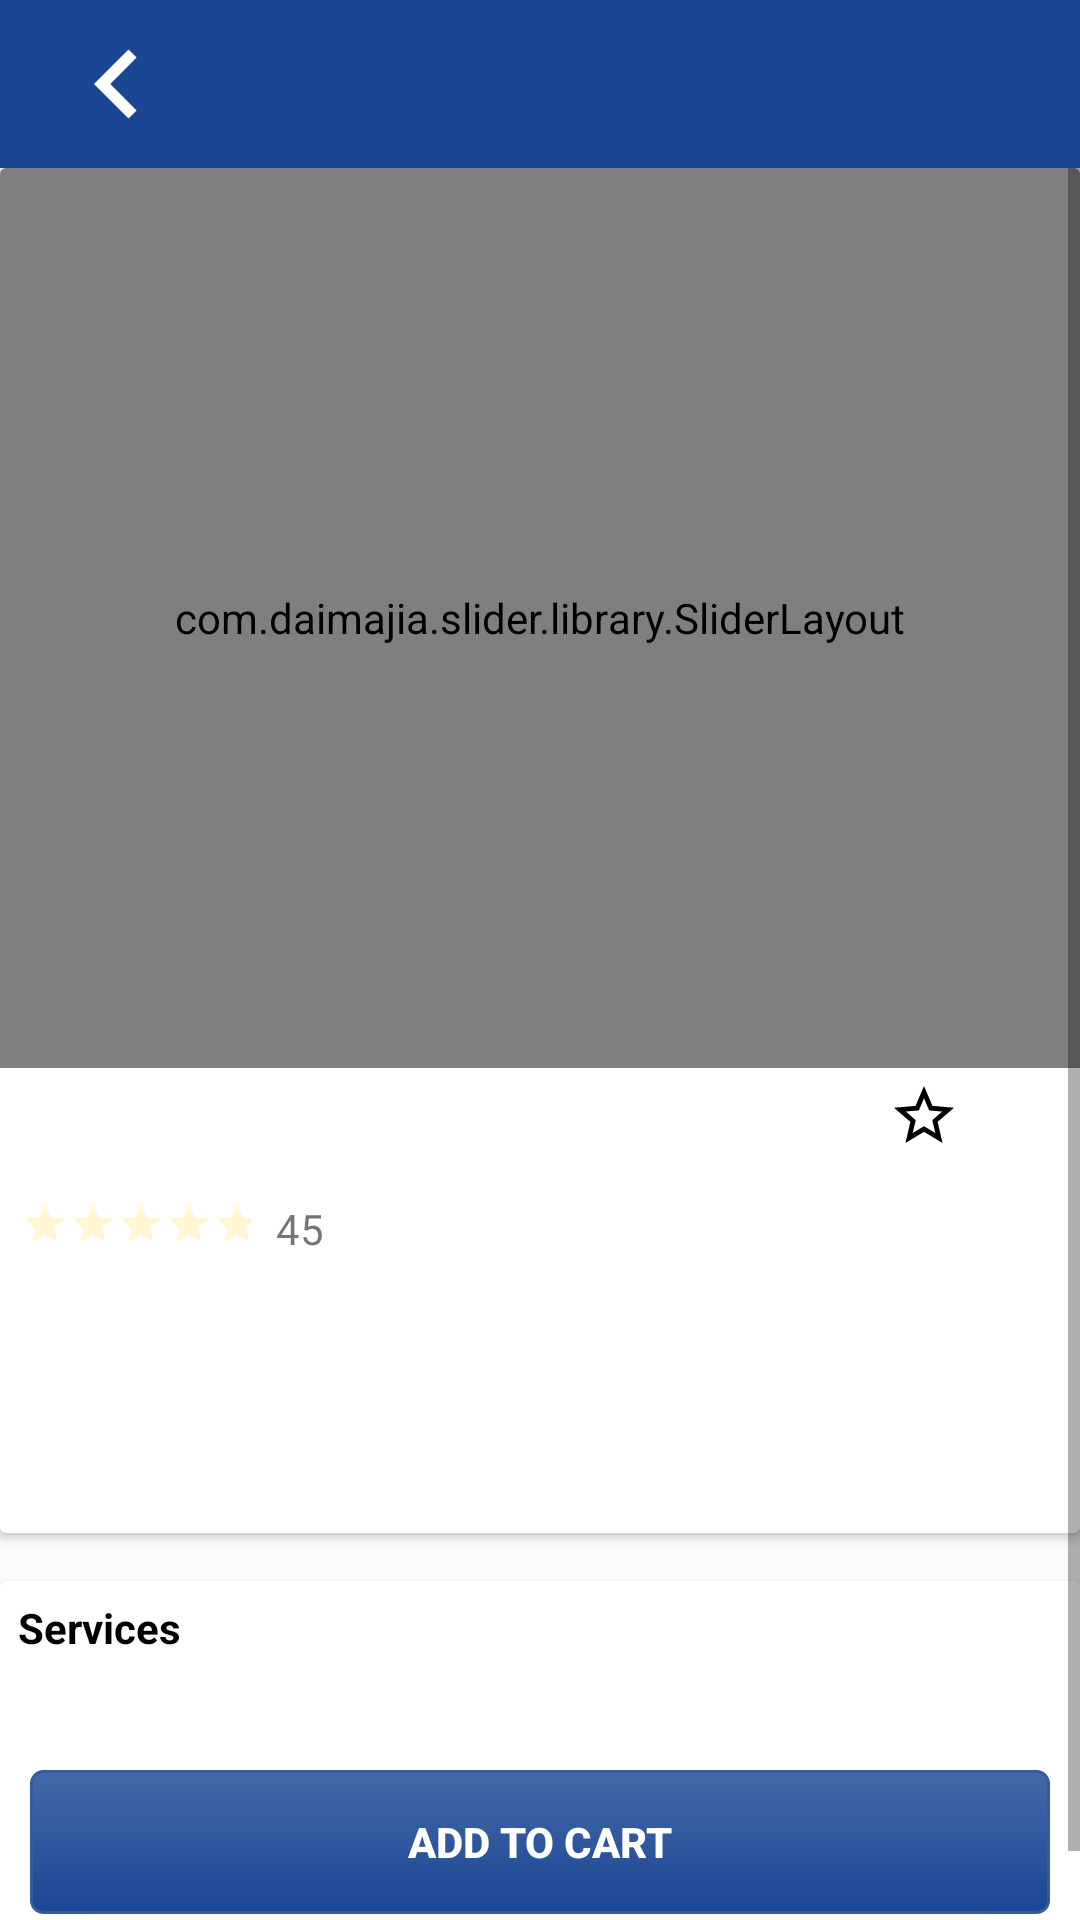

Named icons in this screenshot (1080×1920) and their centers, (x=x, y=y):
arrow left: (x=115, y=84)
star border: (x=924, y=1114)
